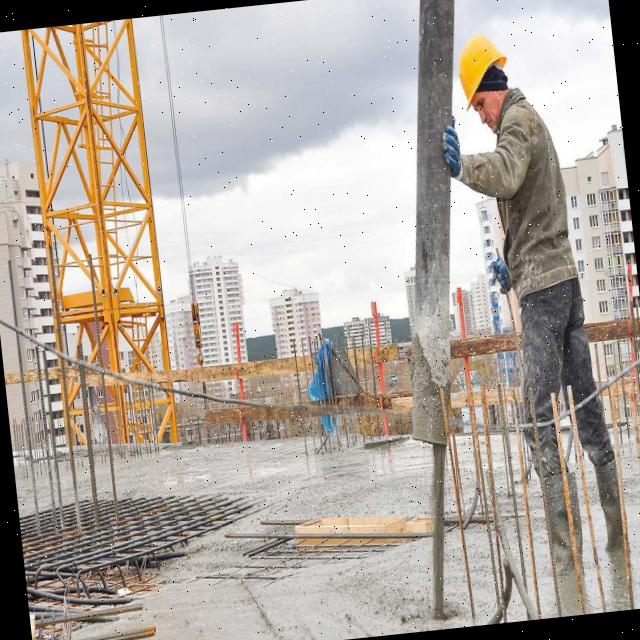Helmet: (455, 31, 511, 114)
NoJacket: (486, 99, 576, 302)
